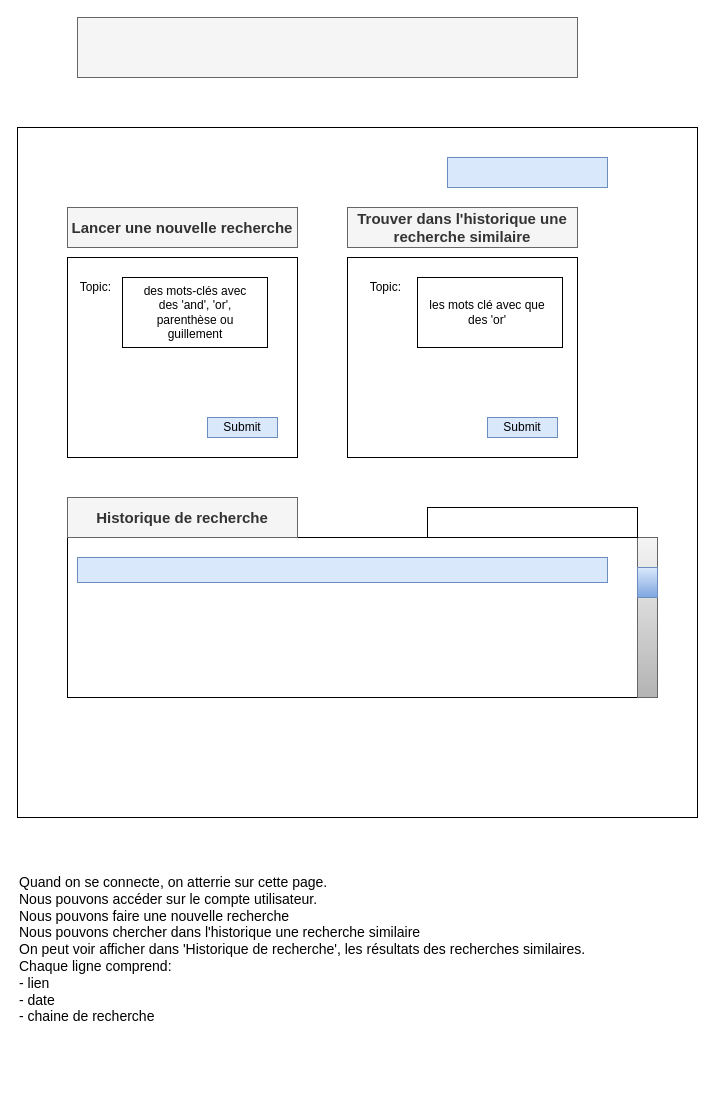
The diagram is 715 pixels wide and 1105 high, and some of its shapes have lost their labels. The centre of each missing label's shape, as x and y in pixels:
Compte utilisateur: [527,172]
filtre:Pertinance,date, nombre d'article: [532,522]
La chaine complète de la recherche, nombre de résultats, date: [342,569]
Page d'accueil: [327,47]
